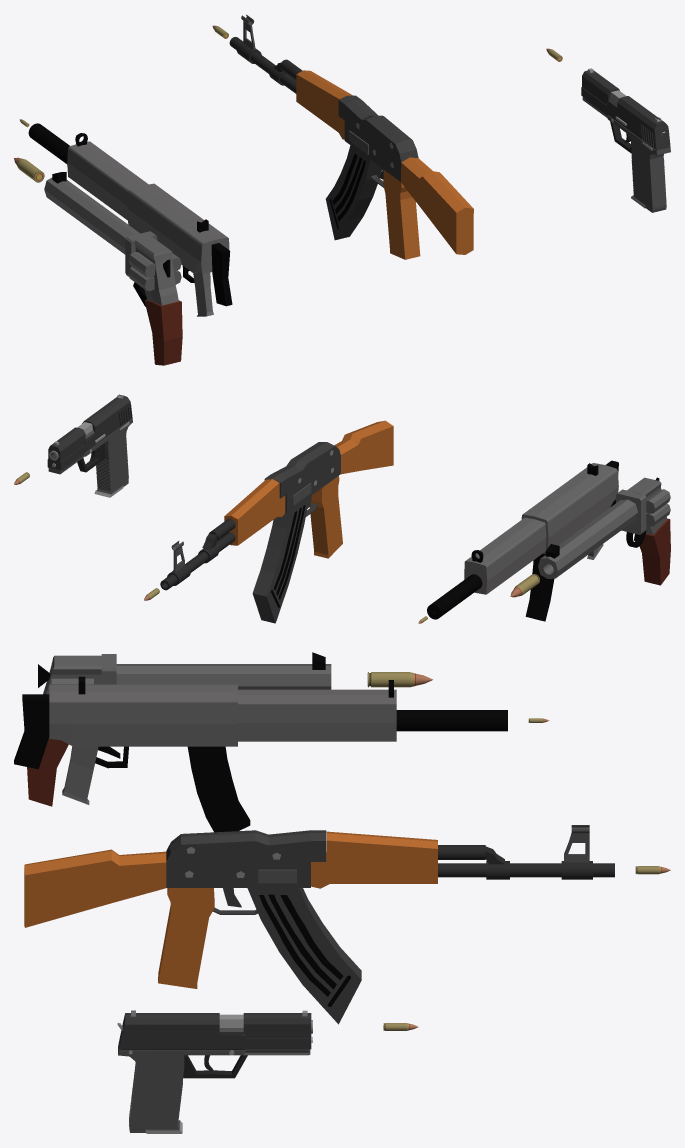
File: Weapons.fbx
3 views of the same model, one above another, from view 1: azimuth 30°, elevation 25°; view 2: azimuth 150°, elevation 25°; view 3: azimuth 270°, elevation 25° (orthographic). The views are drawn at different scales.
Parts seen in each view (by area): view 1: Waffe 3, Waffe 1, Waffe 2, Cube, Waffe 3.001; view 2: Waffe 3, Waffe 1, Waffe 2, Cube, Waffe 3.001, Waffe 1.001; view 3: Waffe 3, Waffe 1, Cube, Waffe 2, Waffe 3.001, Waffe 1.001, schuss gesamt.006.
Boxes of the visible parts, x1=… form: Waffe 3: x1=229, y1=14, x2=473, y2=259; Waffe 1: x1=28, y1=123, x2=232, y2=316; Waffe 2: x1=44, y1=172, x2=182, y2=365; Cube: x1=581, y1=68, x2=670, y2=212; Waffe 3.001: x1=325, y1=145, x2=382, y2=240; Waffe 3: x1=160, y1=420, x2=393, y2=590; Waffe 1: x1=427, y1=460, x2=618, y2=619; Waffe 2: x1=538, y1=477, x2=670, y2=585; Cube: x1=47, y1=394, x2=132, y2=497; Waffe 3.001: x1=252, y1=497, x2=309, y2=623; Waffe 1.001: x1=525, y1=553, x2=554, y2=621; Waffe 3: x1=24, y1=825, x2=614, y2=988; Waffe 1: x1=14, y1=676, x2=507, y2=804; Cube: x1=117, y1=1010, x2=312, y2=1133; Waffe 2: x1=27, y1=652, x2=331, y2=806; Waffe 3.001: x1=247, y1=888, x2=361, y2=1024; Waffe 1.001: x1=187, y1=746, x2=250, y2=832; schuss gesamt.006: x1=367, y1=672, x2=415, y2=687.
Bounding box in the file's own units: 2317 × 607 × 1866.
